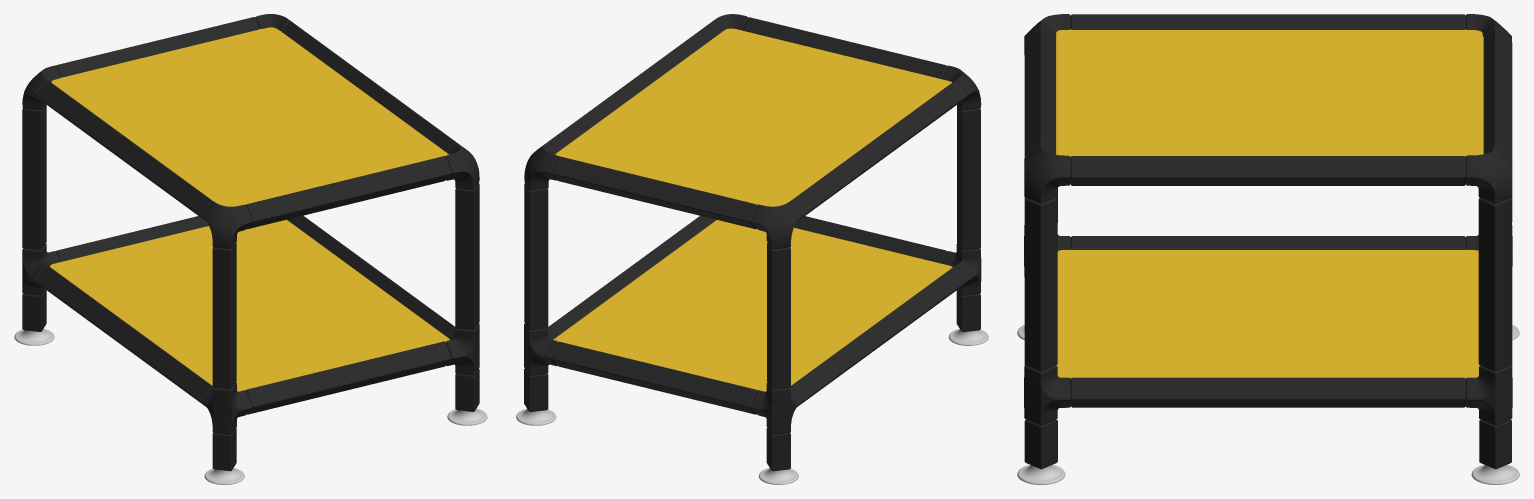
The picture shows the model from 3 angles, left to right: view 1: azimuth 30°, elevation 25°; view 2: azimuth 150°, elevation 25°; view 3: azimuth 270°, elevation 25°; orthographic projection. The views are drawn at different scales.
Visible parts, largest first — view 1: 229x329x154; view 2: 229x329x154; view 3: 229x329x154.
Boxes of the visible parts, box(x1,y1,x2,y2) form: 229x329x154: box(14, 14, 487, 484); 229x329x154: box(516, 14, 988, 484); 229x329x154: box(1017, 14, 1519, 484).
Size of the model in its own units: 0.3189 by 0.2933 by 0.4182.
